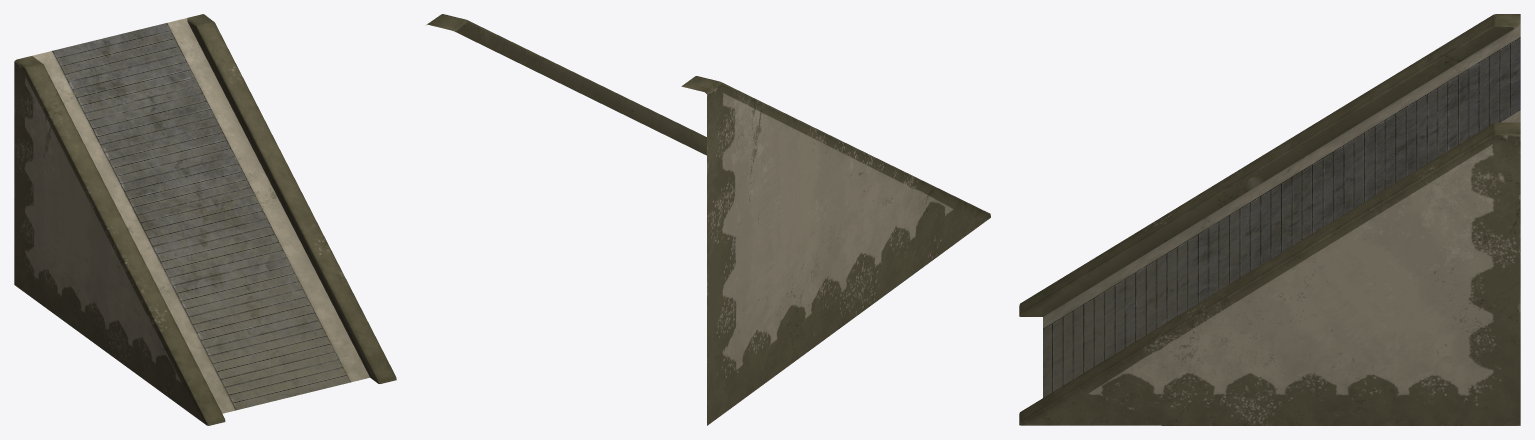
The model's file is ramp_a.glb.
3 views of the same model, side by side, from view 1: azimuth 30°, elevation 25°; view 2: azimuth 150°, elevation 25°; view 3: azimuth 270°, elevation 25° (orthographic). The views are drawn at different scales.
Parts seen in each view (by area): view 1: SM_RampA; view 2: SM_RampA; view 3: SM_RampA.
Boxes of the visible parts, bbox=[...] form: SM_RampA: bbox=[14, 14, 396, 425]; SM_RampA: bbox=[426, 14, 990, 425]; SM_RampA: bbox=[1019, 14, 1520, 425].
Bounding box in the file's own units: 2.78 × 3.14 × 4.88.
Materials: 1 (1 with a texture image).
